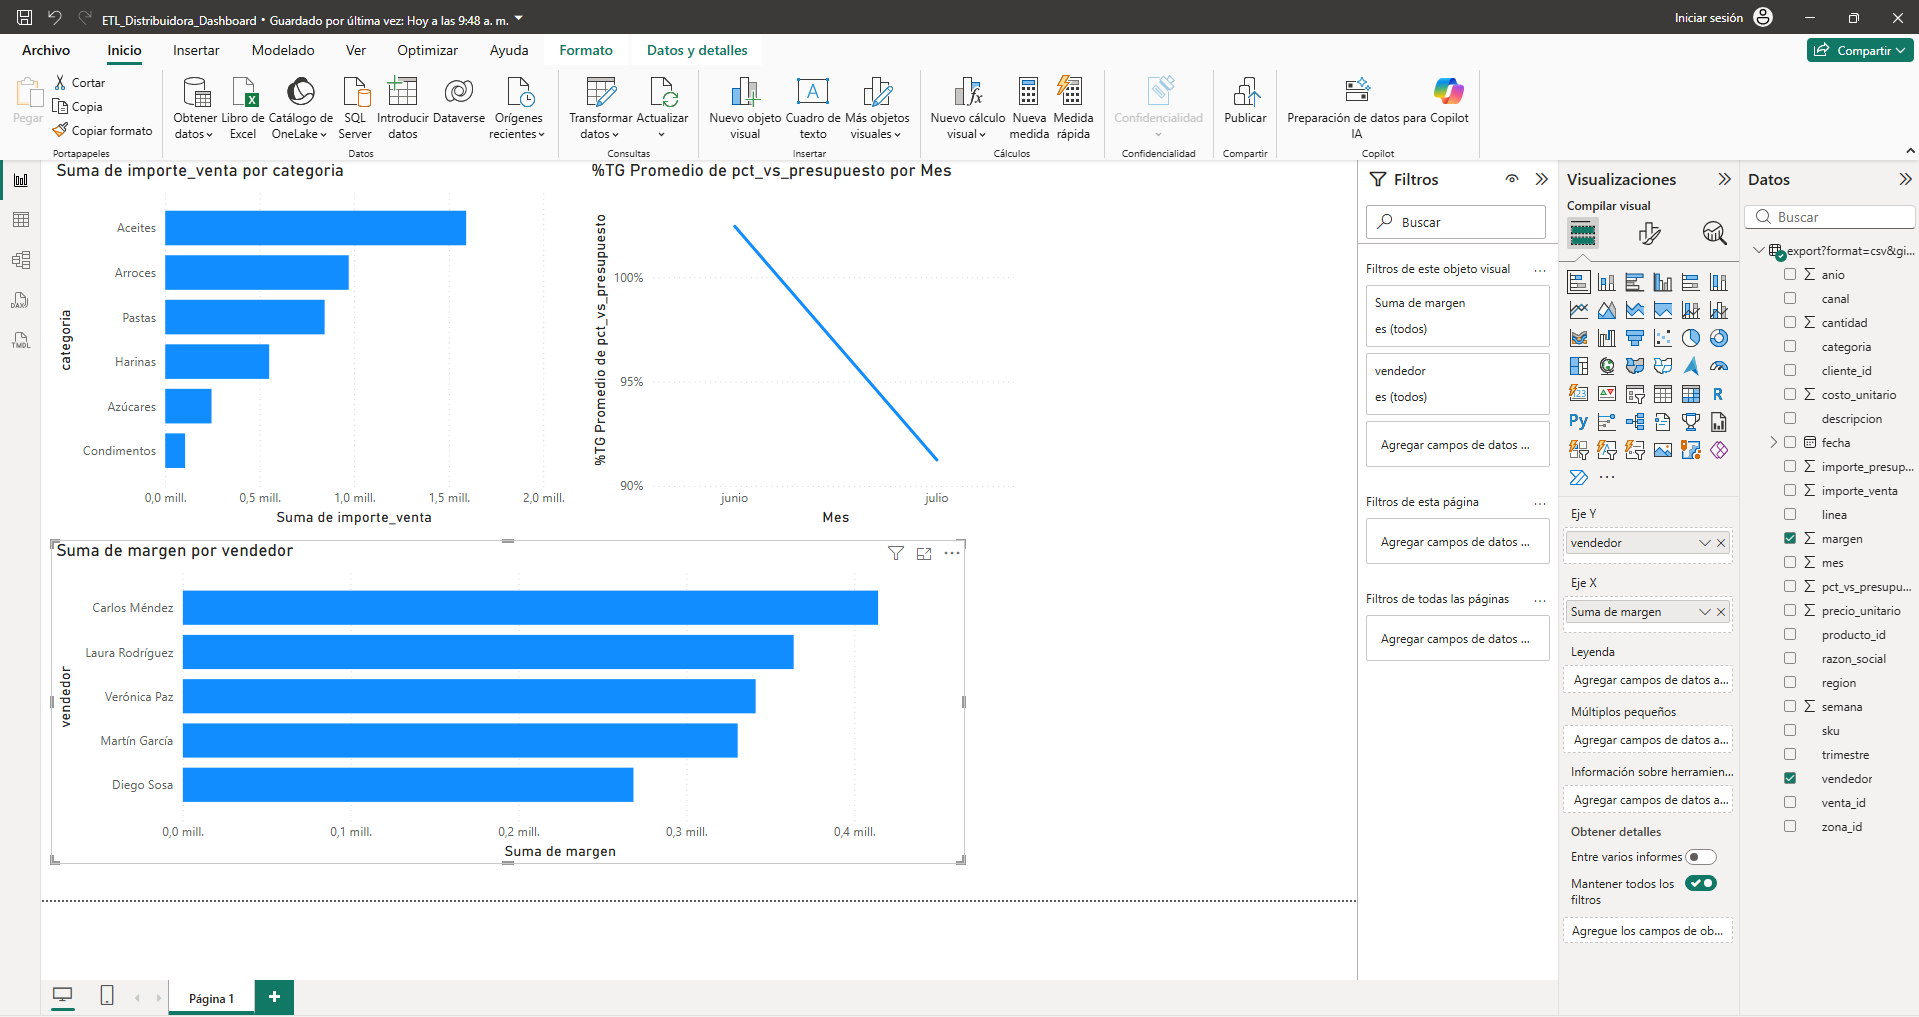

The dashboard page shown, as its layout file describes it:
{"tool":"powerbi","page":{"name":"Página 1","canvas":[1280,720],"ordinal":0},"visuals":[{"type":"clusteredBarChart","fields":{"Category":["export?format=csv&gid=0.categoria"],"Y":["Sum(export?format=csv&gid=0.importe_venta)"]},"box":[9.7,0,504.8,359.9],"z":0},{"type":"lineChart","fields":{"Category":["export?format=csv&gid=0.fecha.Variación.Jerarquía de fechas.Mes"],"Y":["Sum(export?format=csv&gid=0.pct_vs_presupuesto)"]},"box":[530.1,0,425,359.9],"z":1000},{"type":"barChart","fields":{"Category":["export?format=csv&gid=0.vendedor"],"Y":["Sum(export?format=csv&gid=0.margen)"]},"box":[9.7,369.6,889,315.1],"z":1001}]}

Visuals, with their boxes on the page's 1280x720 design canvas (x1, y1, x2, y2). These are canvas units, not pixel positions in the 1919x1017 screenshot, which may show the page scaled, cropped or inside an application window:
clusteredBarChart - export?format=csv&gid=0.categoria x Sum(export?format=csv&gid=0.importe_venta): [10, 0, 514, 360]
lineChart - export?format=csv&gid=0.fecha.Variación.Jerarquía de fechas.Mes x Sum(export?format=csv&gid=0.pct_vs_presupuesto): [530, 0, 955, 360]
barChart - export?format=csv&gid=0.vendedor x Sum(export?format=csv&gid=0.margen): [10, 370, 899, 685]
